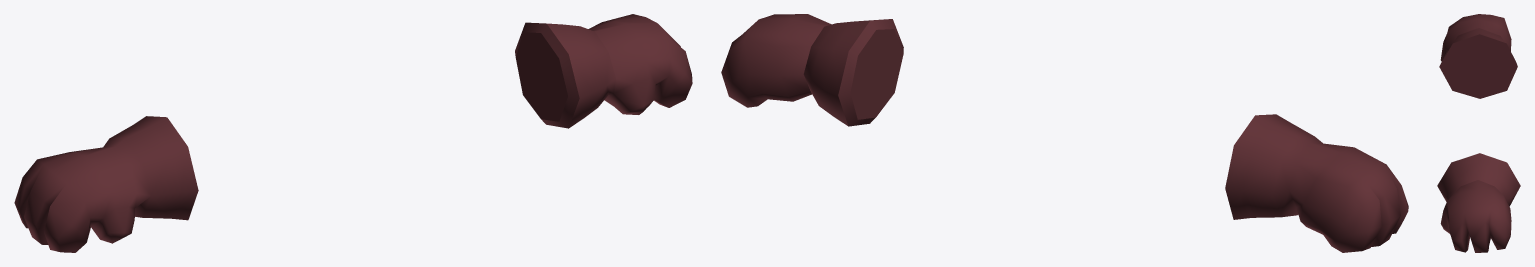
File: Glove_4.fbx
3 views of the same model, side by side, from view 1: azimuth 30°, elevation 25°; view 2: azimuth 150°, elevation 25°; view 3: azimuth 270°, elevation 25° (orthographic). The views are drawn at different scales.
Visible parts, largest first — view 1: Glove_4; view 2: Glove_4; view 3: Glove_4.
Boxes of the visible parts, x1,y1,x2,y2 form: Glove_4: (14,14,692,252); Glove_4: (721,14,1408,252); Glove_4: (1437,14,1520,252).
Bounding box in the file's own units: 133 × 19.74 × 22.85.
